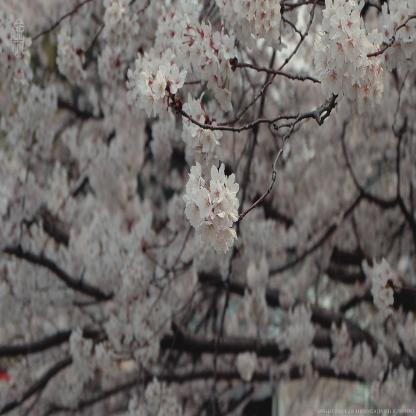Someiyoshino: (2, 3, 415, 414)
